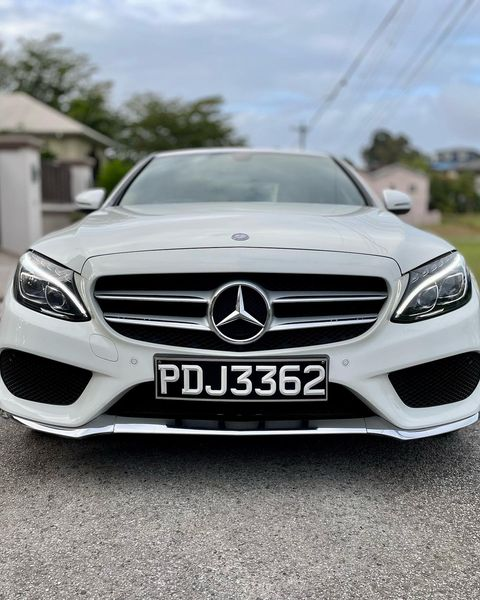License-Plate: (156, 359, 326, 398)
